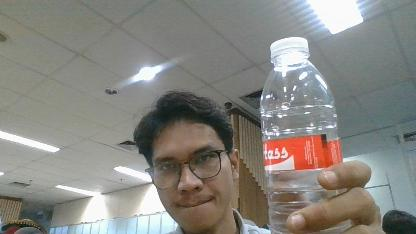Plastic Bottle: (260, 38, 344, 234)
